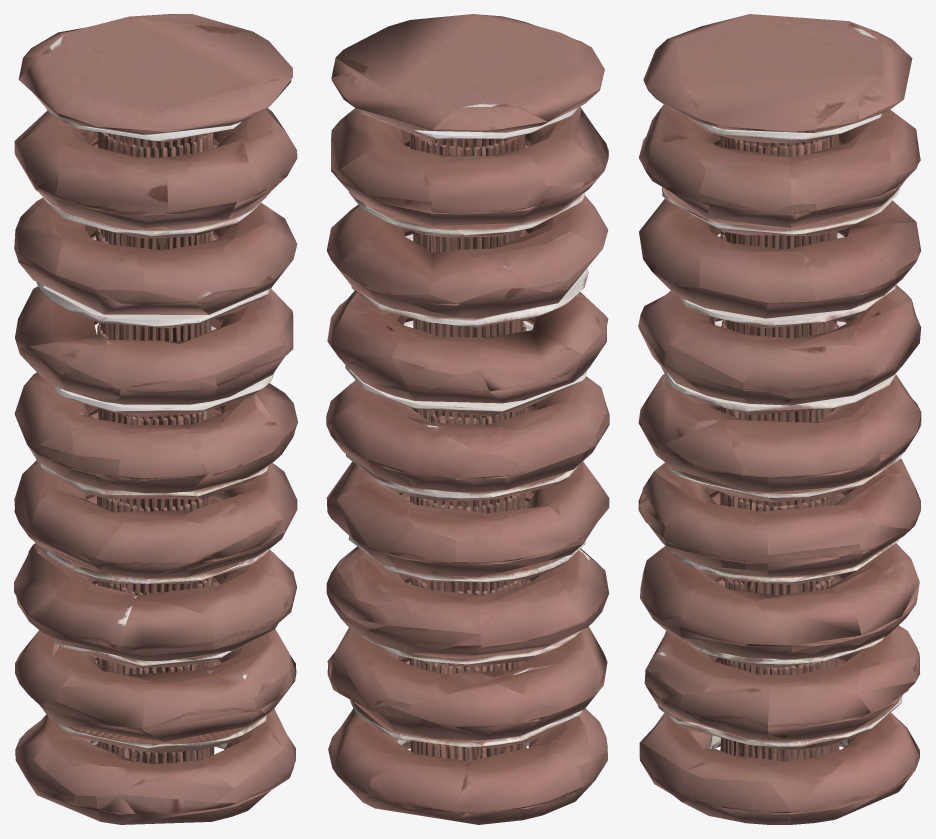
File: mygeetotower.lod1.glb
The picture shows the model from 3 angles, left to right: view 1: azimuth 30°, elevation 25°; view 2: azimuth 150°, elevation 25°; view 3: azimuth 270°, elevation 25°; orthographic projection.
Parts seen in each view (by area): view 1: mygeetotower-centred; view 2: mygeetotower-centred; view 3: mygeetotower-centred.
Part boxes in pixels (x1=…): mygeetotower-centred: x1=14, y1=14, x2=297, y2=824; mygeetotower-centred: x1=326, y1=14, x2=609, y2=824; mygeetotower-centred: x1=638, y1=14, x2=921, y2=824.
Size of the model in its own units: 54.31 by 150 by 54.22.
Materials: 1 (1 with a texture image).
